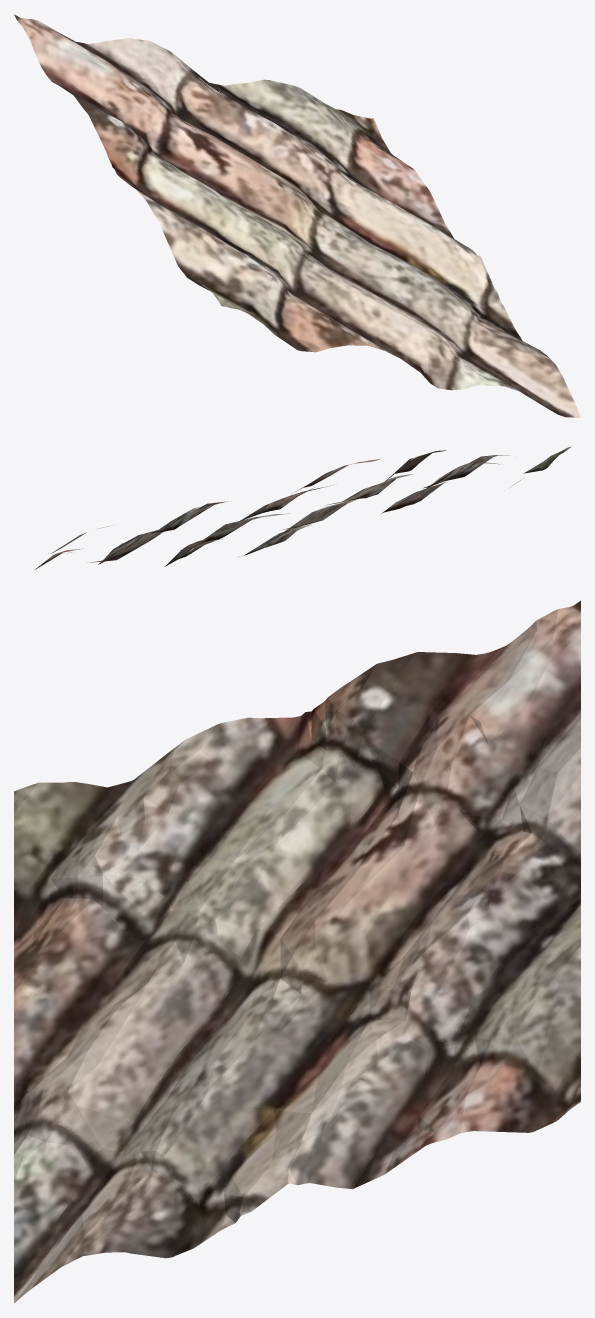
3 views of the same model, one above another, from view 1: azimuth 30°, elevation 25°; view 2: azimuth 150°, elevation 25°; view 3: azimuth 270°, elevation 25° (orthographic). The views are drawn at different scales.
Bounding box in the file's own units: 0.8374 × 0.7554 × 0.8373.
Materials: 3 (3 with a texture image).
